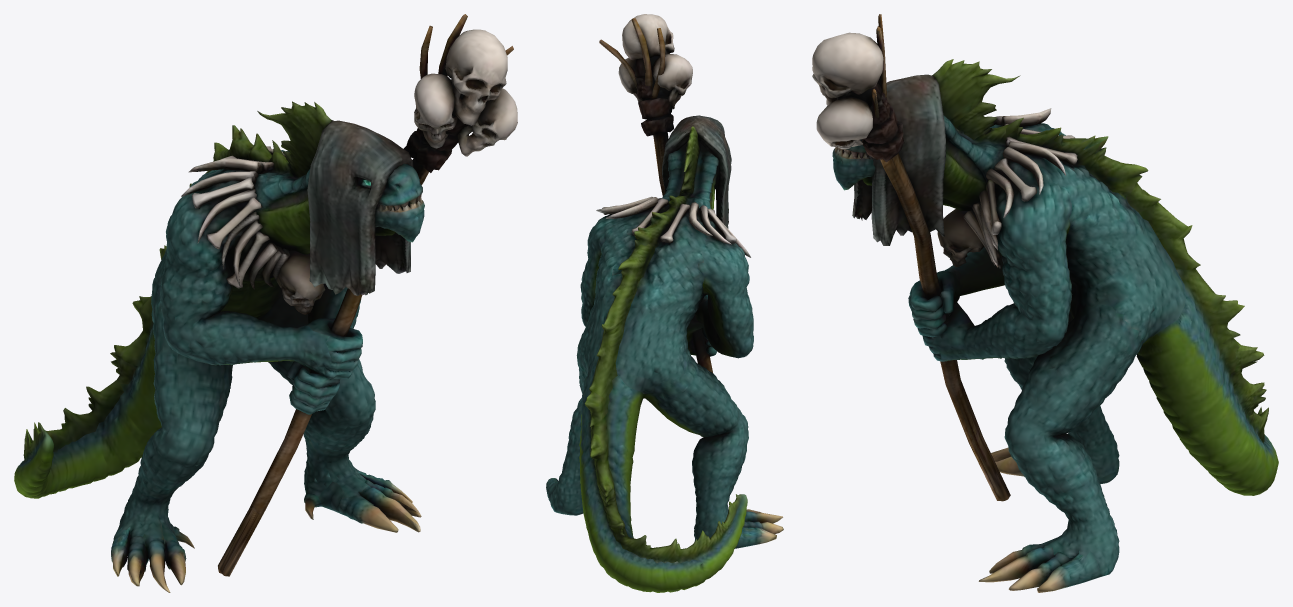
File: MZ4250 - Lizardfolk Shaman_alt1.glb
3 renders of one model, left to right at view 1: azimuth 30°, elevation 25°; view 2: azimuth 150°, elevation 25°; view 3: azimuth 270°, elevation 25°, orthographic. The views are drawn at different scales.
Parts seen in each view (by area): view 1: Lizardfolk Shaman.001; view 2: Lizardfolk Shaman.001; view 3: Lizardfolk Shaman.001.
Boxes of the visible parts, x1,y1,x2,y2 form: Lizardfolk Shaman.001: (14, 14, 517, 592); Lizardfolk Shaman.001: (546, 14, 783, 592); Lizardfolk Shaman.001: (812, 14, 1278, 592).
Bounding box in the file's own units: 25.68 × 41.35 × 31.28.
Materials: 1 (1 with a texture image).
